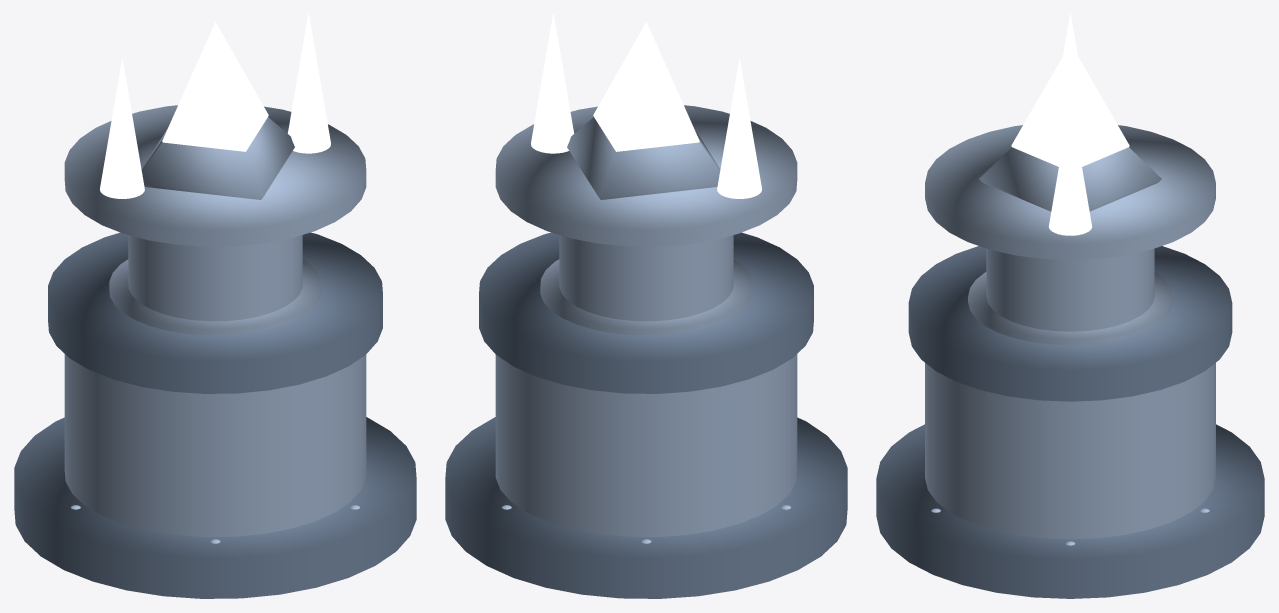
The model's file is ice_l4.glb.
3 views of the same model, side by side, from view 1: azimuth 30°, elevation 25°; view 2: azimuth 150°, elevation 25°; view 3: azimuth 270°, elevation 25° (orthographic). The views are drawn at different scales.
Visible parts, largest first — view 1: base, footing, baseCollar, spinRing, shaft, spinCrystal, iceCrown, lowerTrim, iceShardL, iceShardR; view 2: base, footing, baseCollar, spinRing, shaft, spinCrystal, iceCrown, lowerTrim, iceShardL, iceShardR; view 3: base, footing, baseCollar, spinRing, shaft, spinCrystal, iceCrown, lowerTrim, iceShardR.
Boxes of the visible parts, <box> form: base: <box>64,354,366,536</box>; footing: <box>14,417,416,598</box>; baseCollar: <box>48,232,382,393</box>; spinRing: <box>64,105,366,246</box>; shaft: <box>128,235,302,321</box>; spinCrystal: <box>162,22,268,151</box>; iceCrown: <box>141,117,294,199</box>; lowerTrim: <box>109,259,321,335</box>; iceShardL: <box>100,59,144,198</box>; iceShardR: <box>287,14,330,153</box>; base: <box>495,354,797,536</box>; footing: <box>445,417,847,598</box>; baseCollar: <box>479,232,813,393</box>; spinRing: <box>495,105,797,246</box>; shaft: <box>559,235,733,321</box>; spinCrystal: <box>593,22,699,151</box>; iceCrown: <box>567,117,720,199</box>; lowerTrim: <box>540,259,752,335</box>; iceShardL: <box>717,59,761,198</box>; iceShardR: <box>531,14,574,153</box>; base: <box>925,363,1215,539</box>; footing: <box>876,424,1264,598</box>; baseCollar: <box>908,246,1232,401</box>; spinRing: <box>925,125,1215,259</box>; shaft: <box>986,248,1154,331</box>; spinCrystal: <box>1011,43,1129,166</box>; iceCrown: <box>979,147,1161,211</box>; lowerTrim: <box>968,272,1172,345</box>; iceShardR: <box>1048,101,1092,235</box>.
Size of the model in its own units: 1.8 by 2.42 by 1.8.
